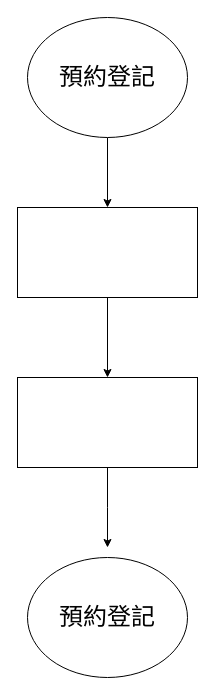
Image size: 215x695. Some labels were removed from this diagram. Here are the shapes that lost their labels. From the top down, the box of each, then its label:
(16, 206, 198, 298): 建立基礎資料
(16, 376, 198, 468): 建立預估時間
